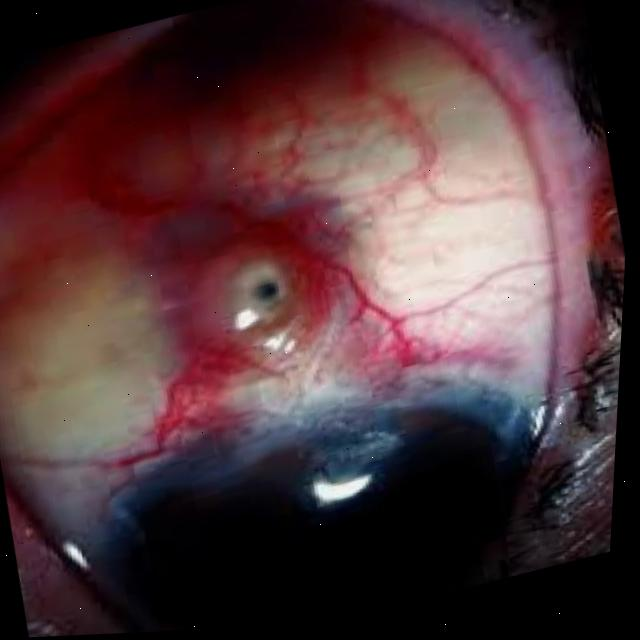Rosacea: (198, 253, 310, 350)
